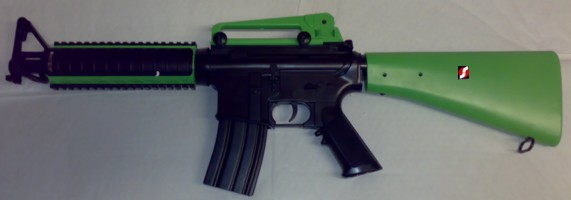rifle: (19, 13, 563, 175)
